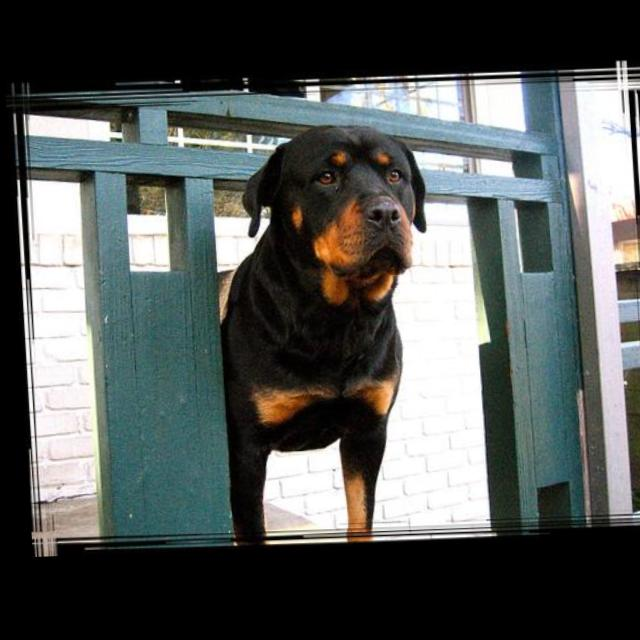rottweiler: (207, 123, 443, 547)
